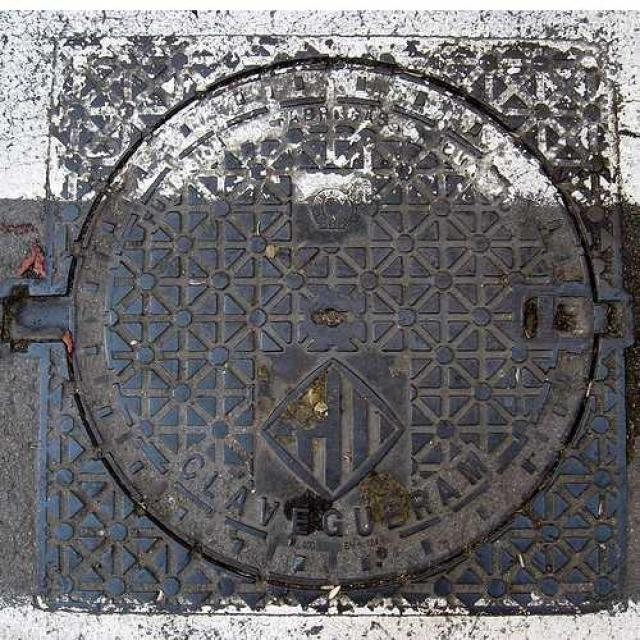manhole: (15, 13, 635, 616)
